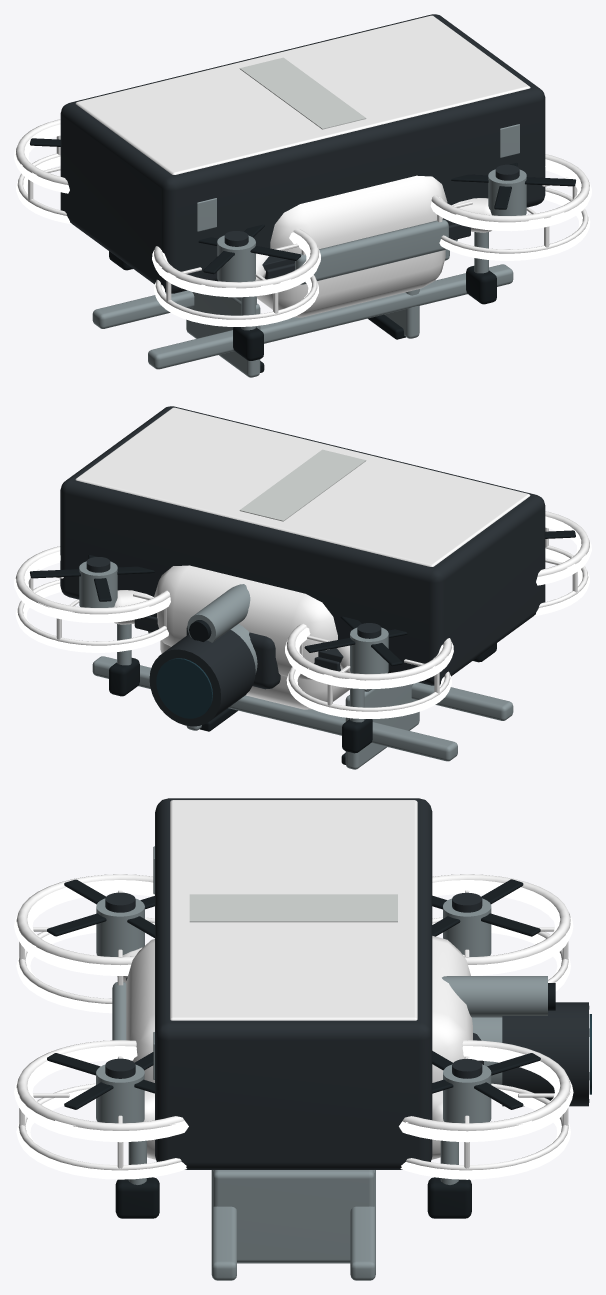
File: drone-kit.glb
The picture shows the model from 3 angles, top to bottom: view 1: azimuth 30°, elevation 25°; view 2: azimuth 150°, elevation 25°; view 3: azimuth 270°, elevation 25°; orthographic projection. The views are drawn at different scales.
Visible parts, largest first — view 1: service-cabinet_Graphite polymer, service-cabinet_Team paint, airframe_Team paint, airframe_Team light, cargo-module_Brushed aluminum, armor-plates_Brushed aluminum, airframe_Grip rubber, service-cabinet_Porcelain polymer, airframe_Brushed aluminum, cargo-grip_Brushed aluminum, service-cabinet_Brushed aluminum, pallet_Graphite polymer (+2 smaller); view 2: service-cabinet_Graphite polymer, service-cabinet_Team paint, airframe_Team paint, airframe_Team light, cargo-module_Brushed aluminum, optics_Graphite polymer, airframe_Grip rubber, airframe_Brushed aluminum, service-cabinet_Porcelain polymer, optics_Camera glass, cargo-grip_Brushed aluminum, airframe_Graphite polymer (+2 smaller); view 3: service-cabinet_Team paint, service-cabinet_Graphite polymer, airframe_Team paint, airframe_Team light, cargo-grip_Brushed aluminum, airframe_Brushed aluminum, airframe_Grip rubber, service-cabinet_Porcelain polymer, optics_Graphite polymer, cargo-module_Brushed aluminum, gun_Brushed aluminum, airframe_Graphite polymer (+1 smaller).
Part boxes in pixels (bbox=[...]): service-cabinet_Graphite polymer: bbox=[60, 14, 545, 293]; service-cabinet_Team paint: bbox=[75, 15, 530, 174]; airframe_Team paint: bbox=[16, 119, 589, 319]; airframe_Team light: bbox=[14, 124, 591, 326]; cargo-module_Brushed aluminum: bbox=[92, 239, 513, 369]; armor-plates_Brushed aluminum: bbox=[234, 219, 449, 304]; airframe_Grip rubber: bbox=[30, 138, 575, 360]; service-cabinet_Porcelain polymer: bbox=[239, 57, 366, 129]; airframe_Brushed aluminum: bbox=[217, 169, 526, 330]; cargo-grip_Brushed aluminum: bbox=[186, 289, 419, 377]; service-cabinet_Brushed aluminum: bbox=[197, 124, 519, 231]; pallet_Graphite polymer: bbox=[262, 218, 470, 279]; service-cabinet_Graphite polymer: bbox=[60, 406, 545, 685]; service-cabinet_Team paint: bbox=[75, 407, 530, 566]; airframe_Team paint: bbox=[15, 511, 589, 711]; airframe_Team light: bbox=[14, 516, 591, 718]; cargo-module_Brushed aluminum: bbox=[92, 631, 513, 761]; optics_Graphite polymer: bbox=[149, 629, 255, 726]; airframe_Grip rubber: bbox=[30, 530, 575, 753]; airframe_Brushed aluminum: bbox=[79, 561, 388, 722]; service-cabinet_Porcelain polymer: bbox=[239, 449, 366, 521]; optics_Camera glass: bbox=[156, 658, 212, 718]; cargo-grip_Brushed aluminum: bbox=[186, 683, 419, 769]; airframe_Graphite polymer: bbox=[86, 557, 381, 689]; service-cabinet_Team paint: bbox=[170, 800, 417, 1020]; service-cabinet_Graphite polymer: bbox=[155, 798, 432, 1169]; airframe_Team paint: bbox=[16, 874, 570, 1170]; airframe_Team light: bbox=[14, 880, 573, 1179]; cargo-grip_Brushed aluminum: bbox=[213, 1170, 374, 1262]; airframe_Brushed aluminum: bbox=[96, 898, 502, 1184]; airframe_Grip rubber: bbox=[47, 879, 540, 1218]; service-cabinet_Porcelain polymer: bbox=[189, 894, 397, 922]; optics_Graphite polymer: bbox=[502, 1002, 589, 1106]; cargo-module_Brushed aluminum: bbox=[211, 1170, 375, 1280]; gun_Brushed aluminum: bbox=[442, 976, 547, 1017]; airframe_Graphite polymer: bbox=[105, 892, 483, 1078].
Size of the model in its own units: 0.5242 by 0.292 by 0.5001.
